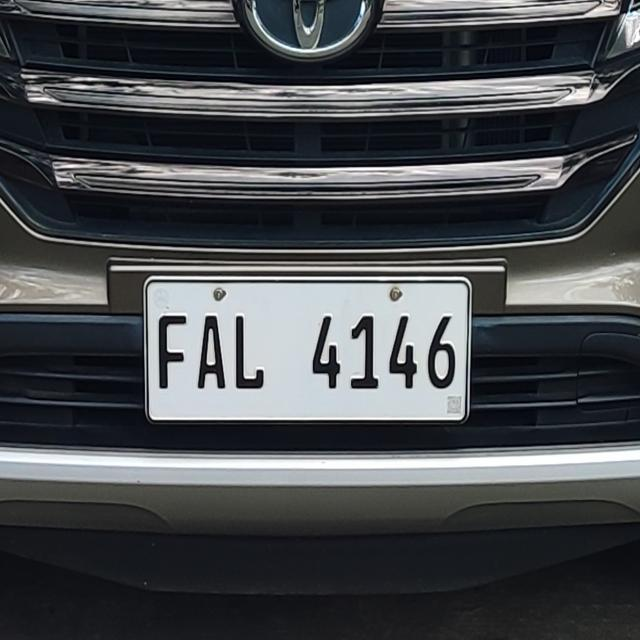LicensePlate: (136, 269, 479, 428)
